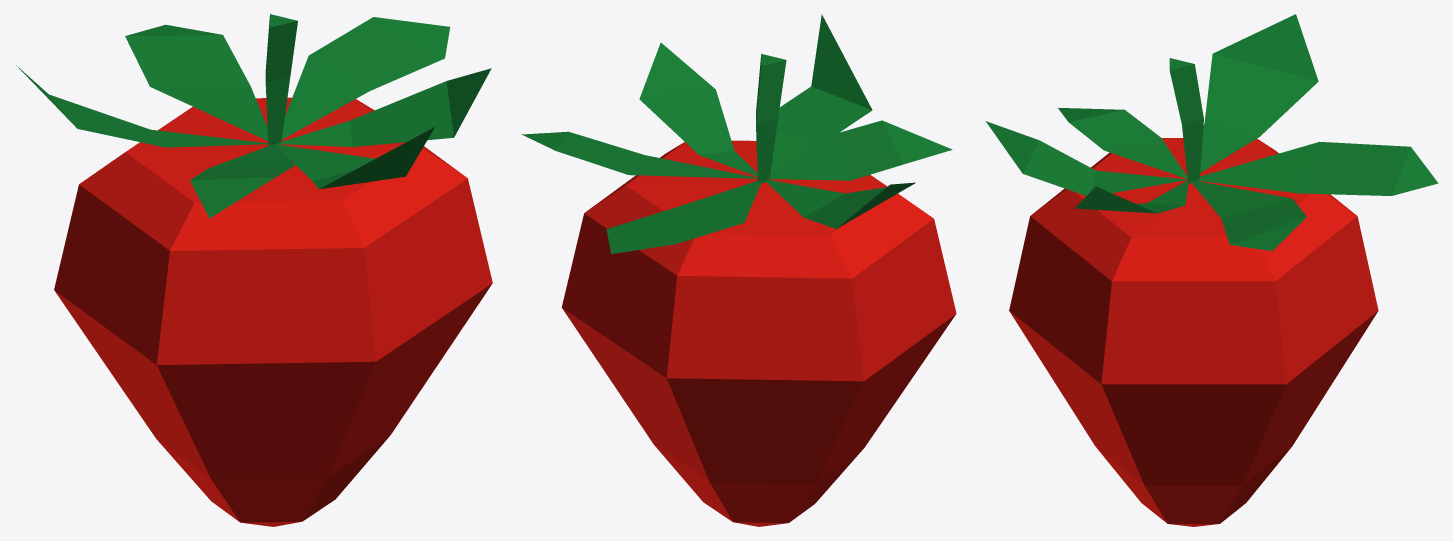
File: strawberry.fbx
The picture shows the model from 3 angles, left to right: view 1: azimuth 30°, elevation 25°; view 2: azimuth 150°, elevation 25°; view 3: azimuth 270°, elevation 25°; orthographic projection. The views are drawn at different scales.
Parts seen in each view (by area): view 1: Cylinder; view 2: Cylinder; view 3: Cylinder.
Boxes of the visible parts, x1=… form: Cylinder: x1=16, y1=14, x2=492, y2=526; Cylinder: x1=521, y1=14, x2=956, y2=526; Cylinder: x1=985, y1=14, x2=1438, y2=526.
Bounding box in the file's own units: 29.85 × 34.61 × 30.79.
Materials: 1 (1 with a texture image).
